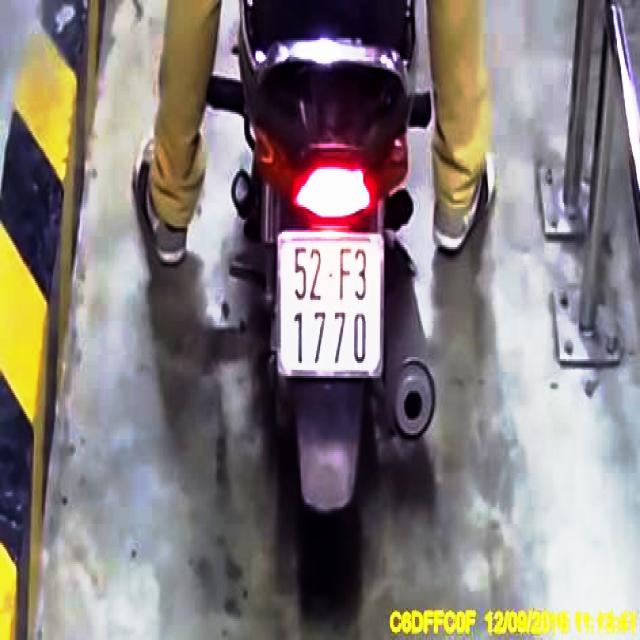license_plate: (278, 236, 386, 376)
